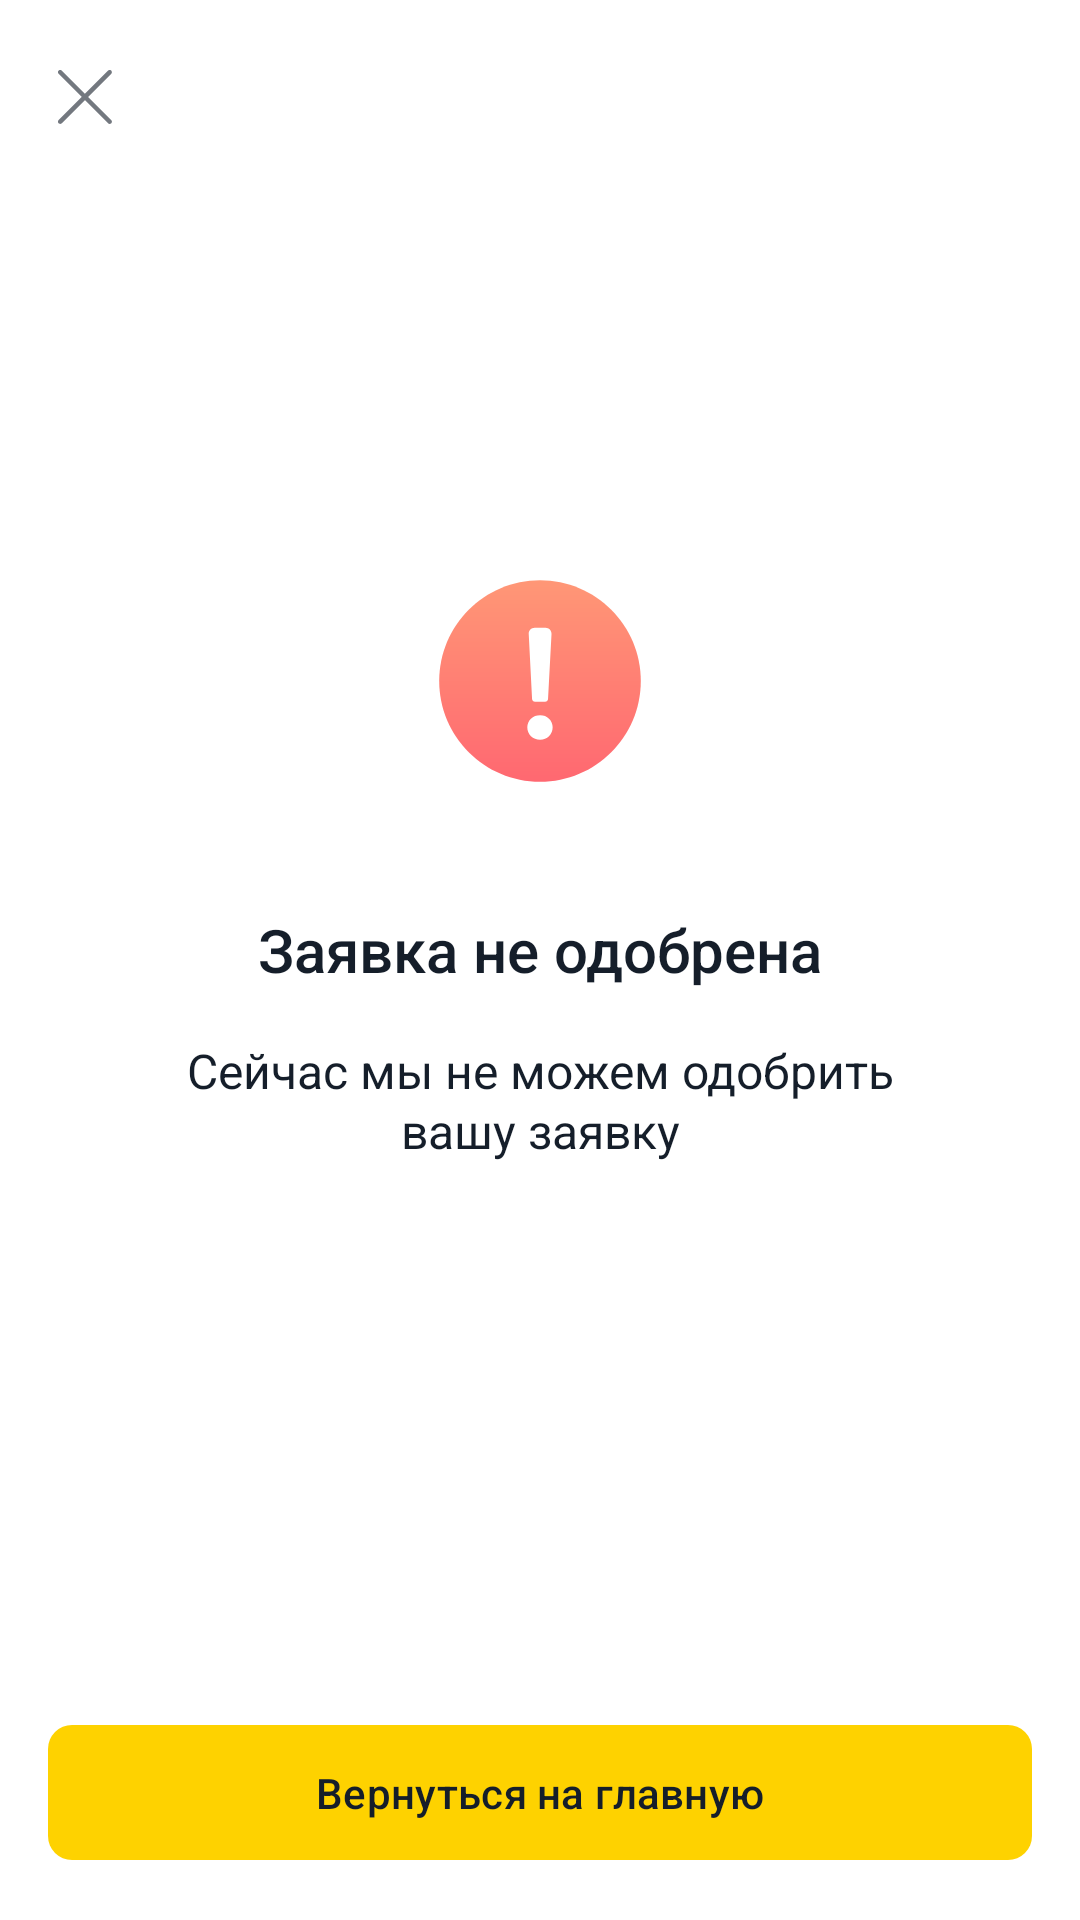

Screen size 1080 × 1920. Icon name, then its box in pixels as (x1, y1, x2, y2):
some error: (439, 580, 641, 782)
